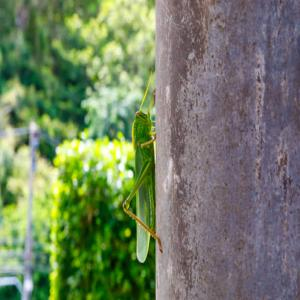locust: (107, 61, 172, 262)
